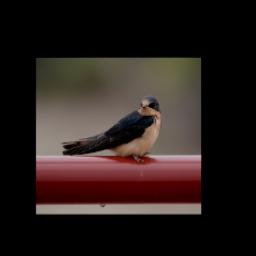Swallow: (60, 93, 162, 167)
